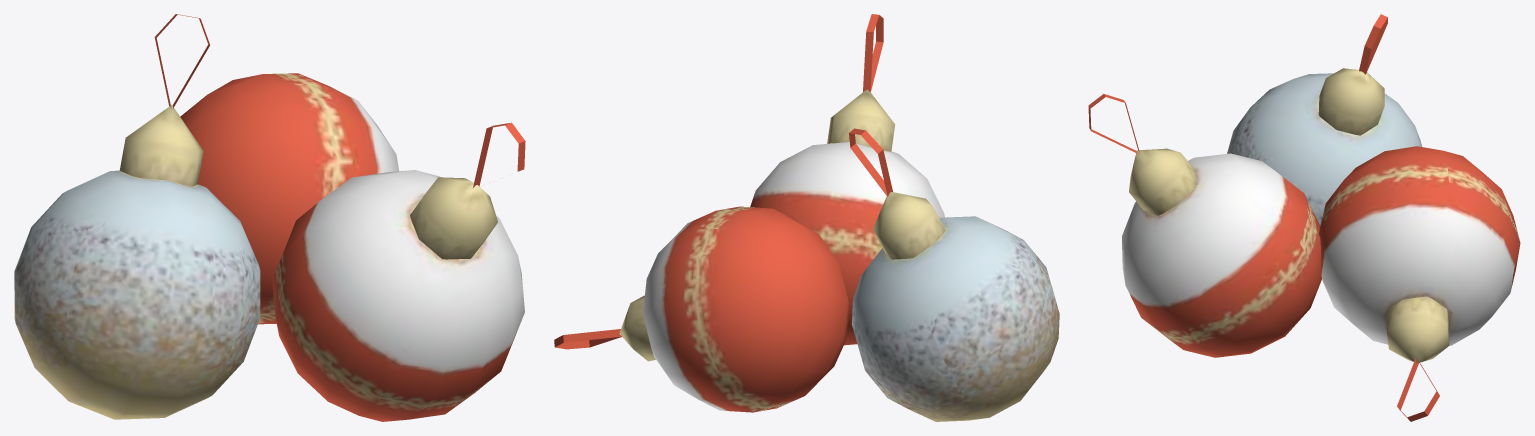
Rendered from xmas_baubles.worldmodel.glb.
3 renders of one model, left to right at view 1: azimuth 30°, elevation 25°; view 2: azimuth 150°, elevation 25°; view 3: azimuth 270°, elevation 25°, orthographic. The views are drawn at different scales.
Visible parts, largest first — view 1: xmas_baubles_worldmodel_LOD0; view 2: xmas_baubles_worldmodel_LOD0; view 3: xmas_baubles_worldmodel_LOD0.
Part boxes in pixels (x1,y1,x2,y2): xmas_baubles_worldmodel_LOD0: (14, 14, 525, 421); xmas_baubles_worldmodel_LOD0: (554, 14, 1059, 421); xmas_baubles_worldmodel_LOD0: (1088, 14, 1520, 421).
Size of the model in its own units: 0.3253 by 0.2046 by 0.2811.
1 material, 1 textured.
